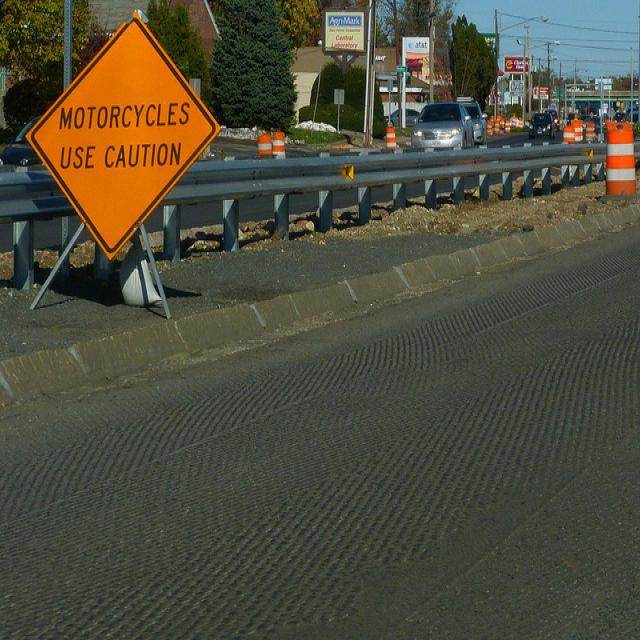Vehicle: (410, 100, 476, 151), (1, 116, 48, 166), (459, 99, 486, 144), (528, 110, 553, 144), (626, 107, 639, 123), (613, 112, 630, 123), (604, 114, 611, 122)
